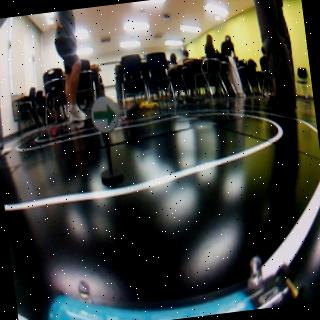right: (90, 94, 120, 133)
